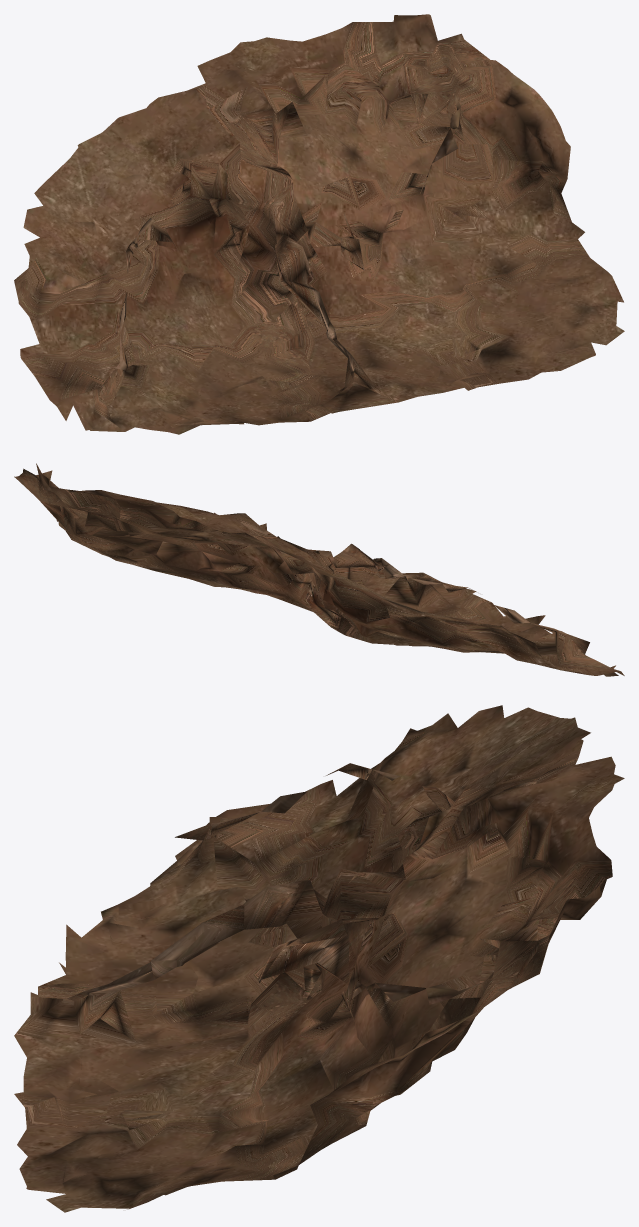
Rendered from root_cluster_01_lod1.glb.
3 views of the same model, one above another, from view 1: azimuth 30°, elevation 25°; view 2: azimuth 150°, elevation 25°; view 3: azimuth 270°, elevation 25° (orthographic). The views are drawn at different scales.
Visible parts, largest first — view 1: root_cluster_01; view 2: root_cluster_01; view 3: root_cluster_01.
Part boxes in pixels (box(x1,y1,x2,y2)): root_cluster_01: box(14, 14, 624, 434); root_cluster_01: box(14, 463, 624, 676); root_cluster_01: box(14, 705, 624, 1212).
Bounding box in the file's own units: 4.09 × 1.47 × 2.6.
Materials: 1 (1 with a texture image).
